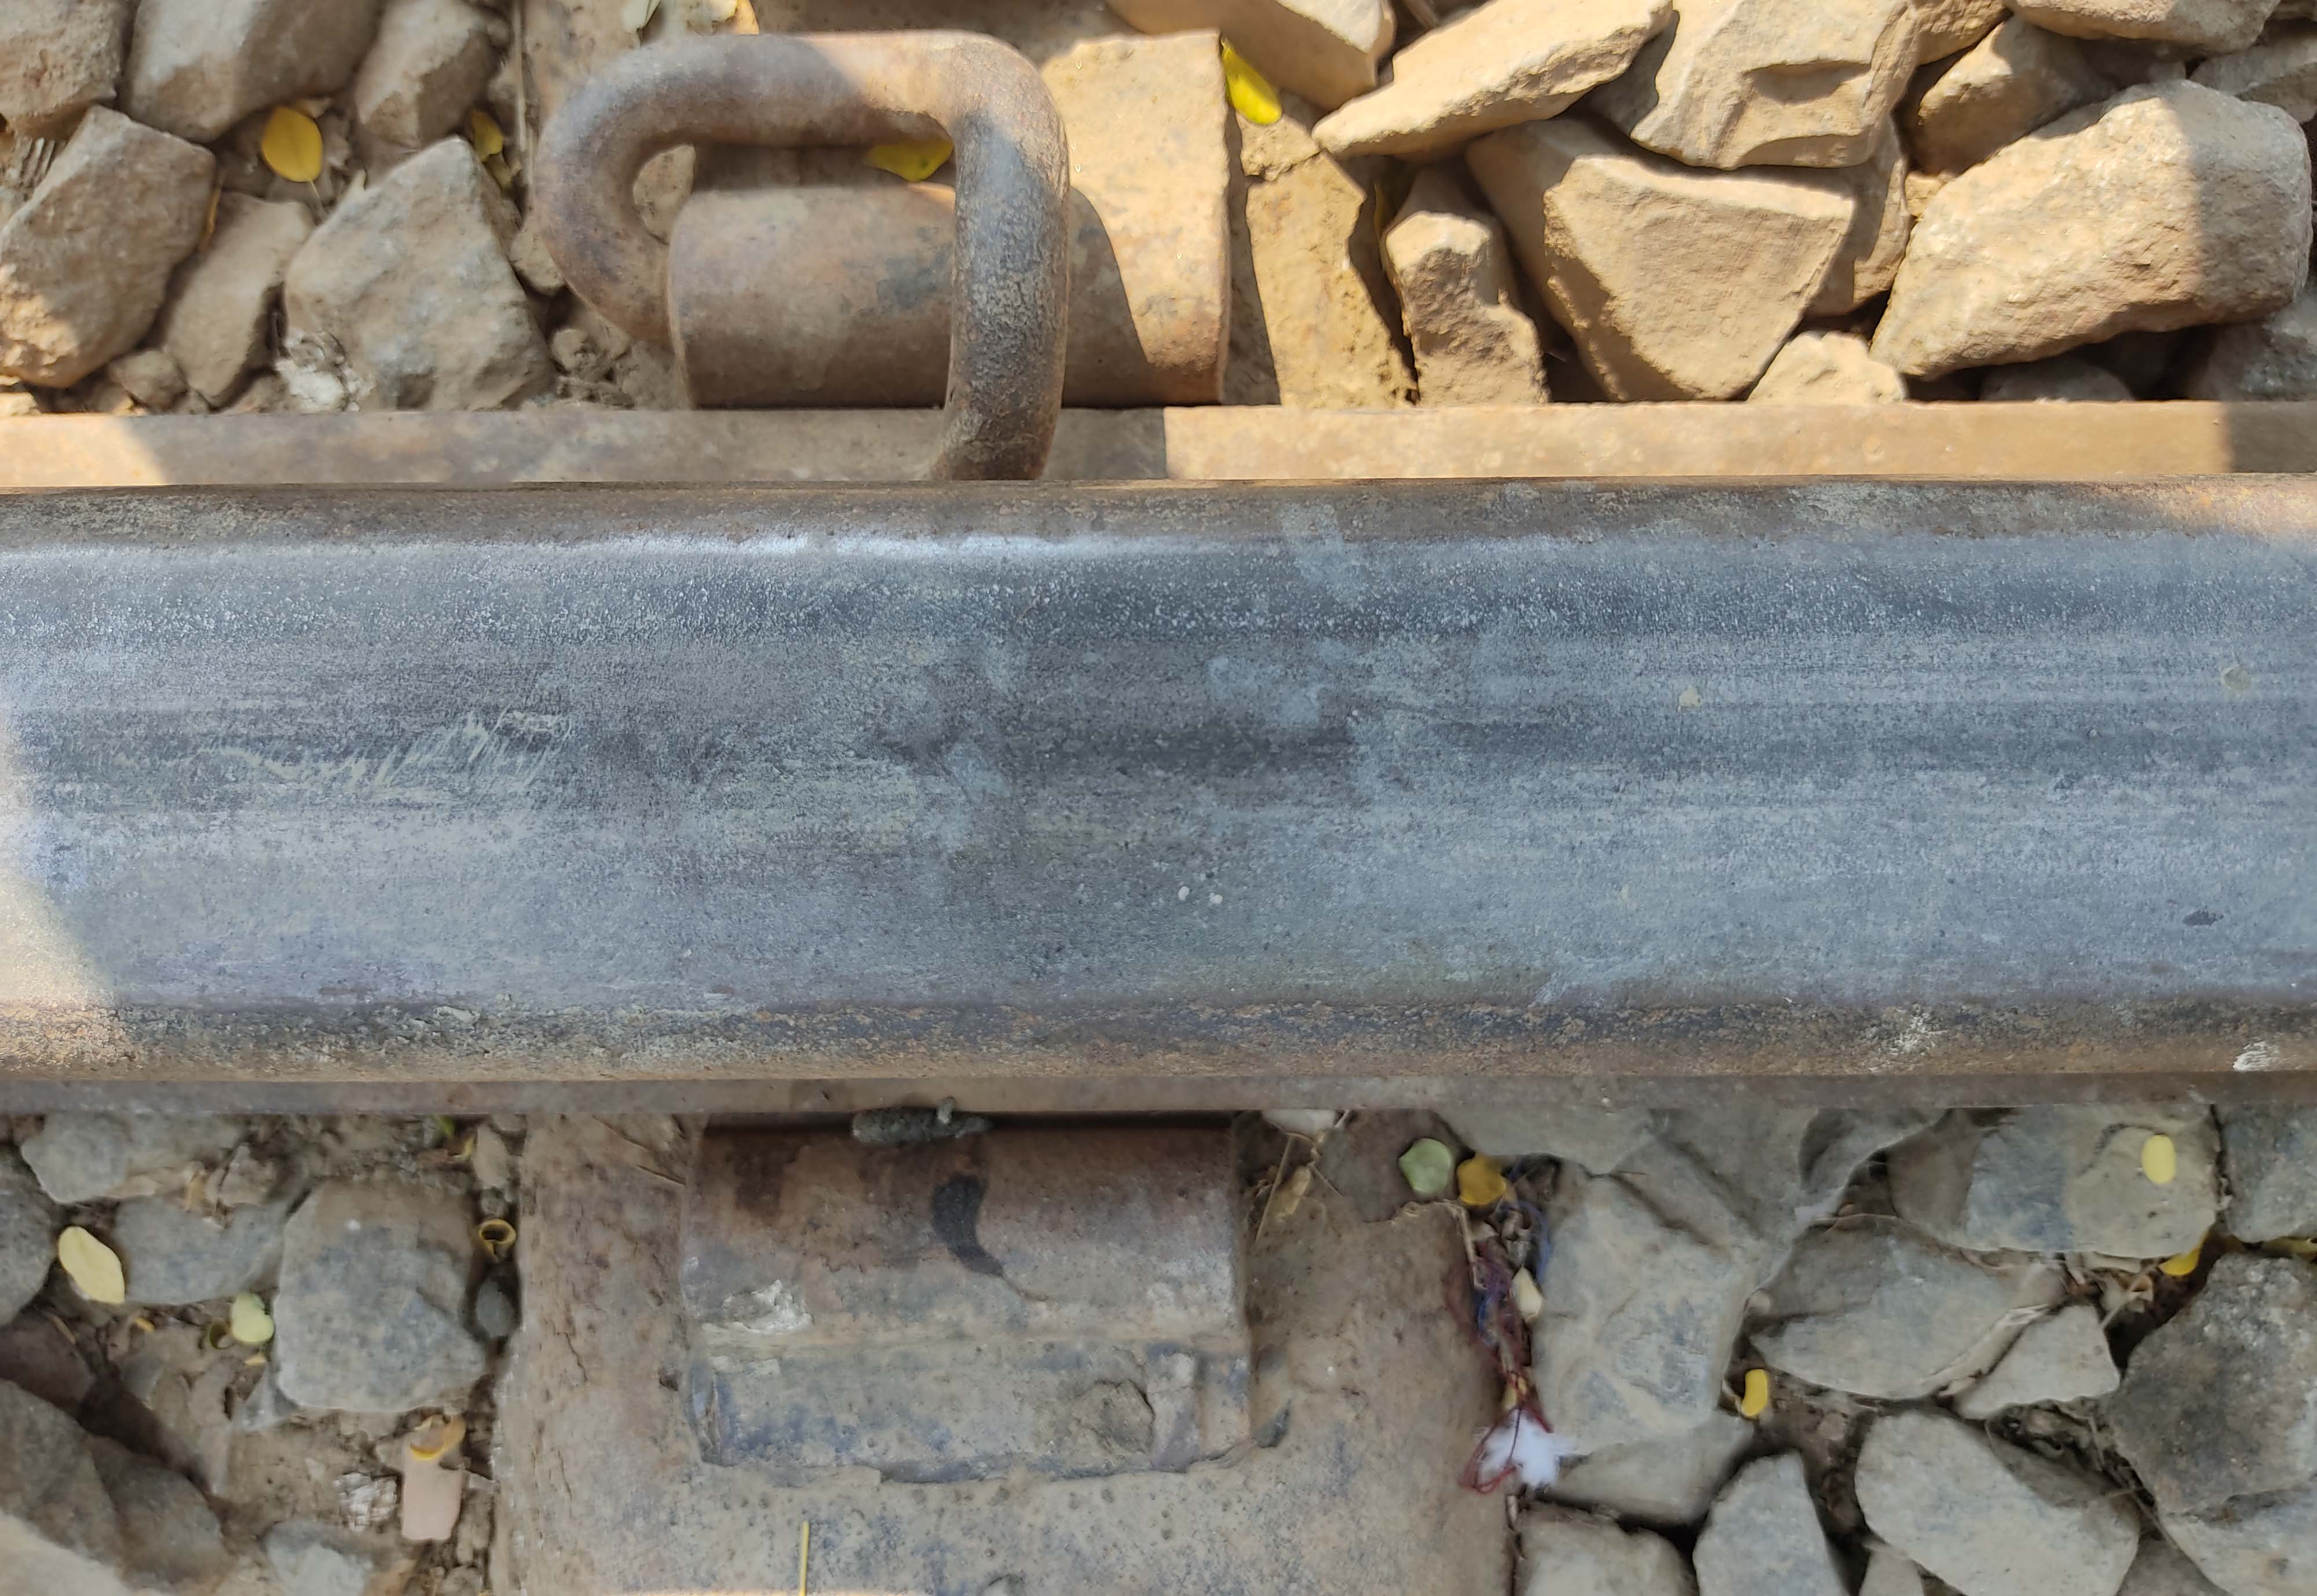error1: (548, 51, 1262, 470), (651, 1085, 1294, 1511)
